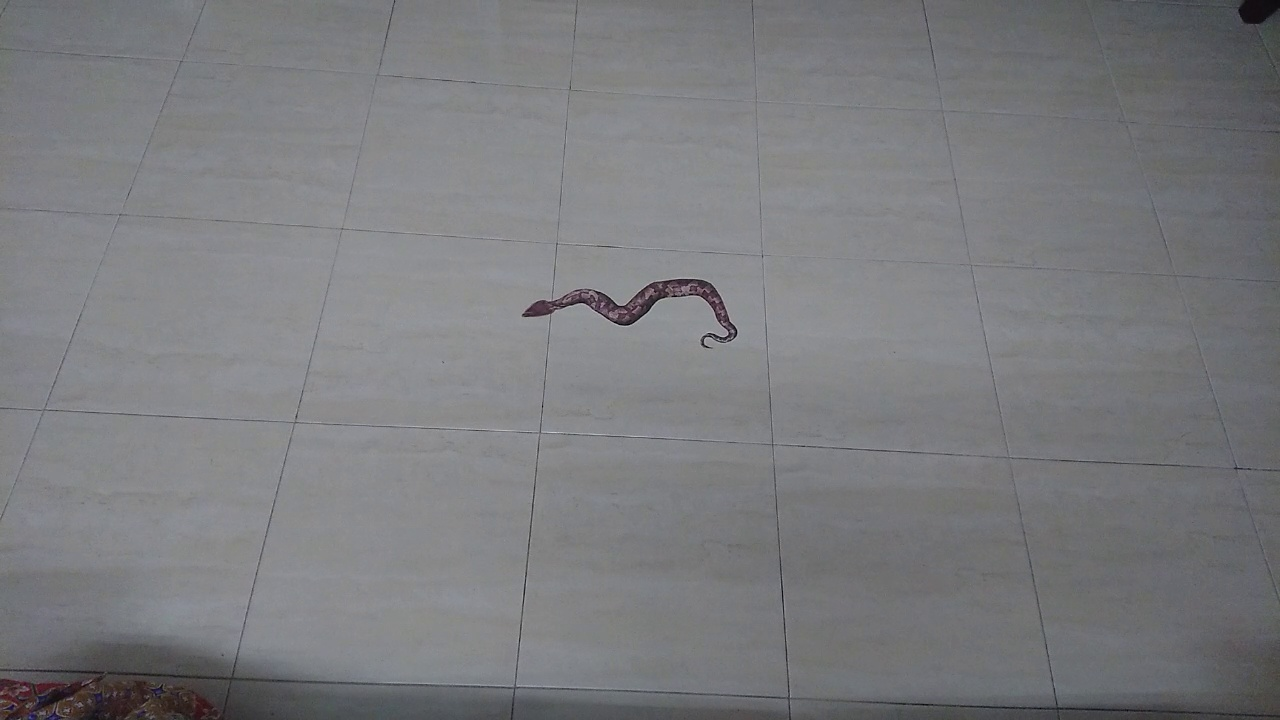snake: (511, 252, 750, 365)
